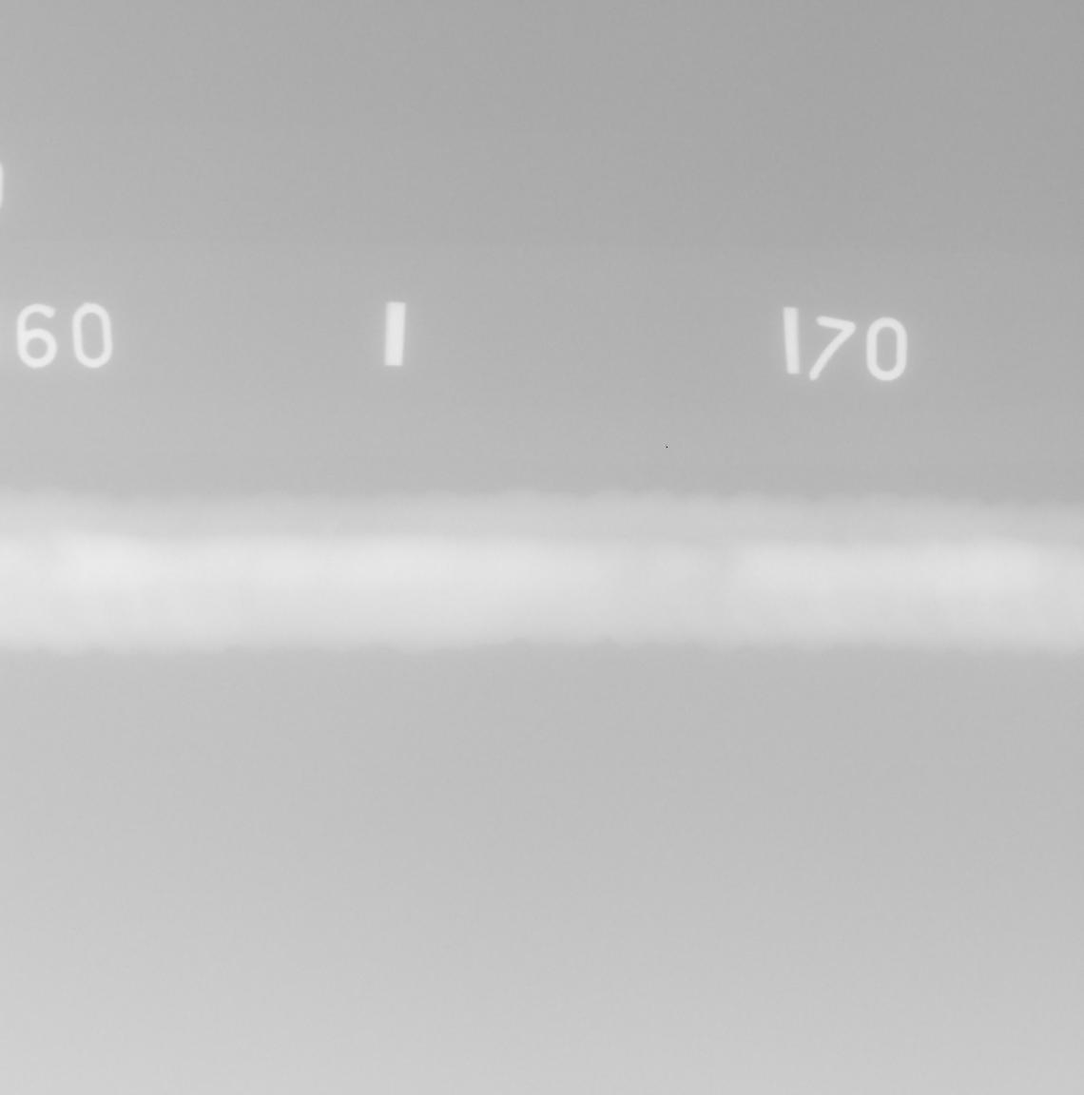Pore/Porosity: (974, 545, 979, 549)
